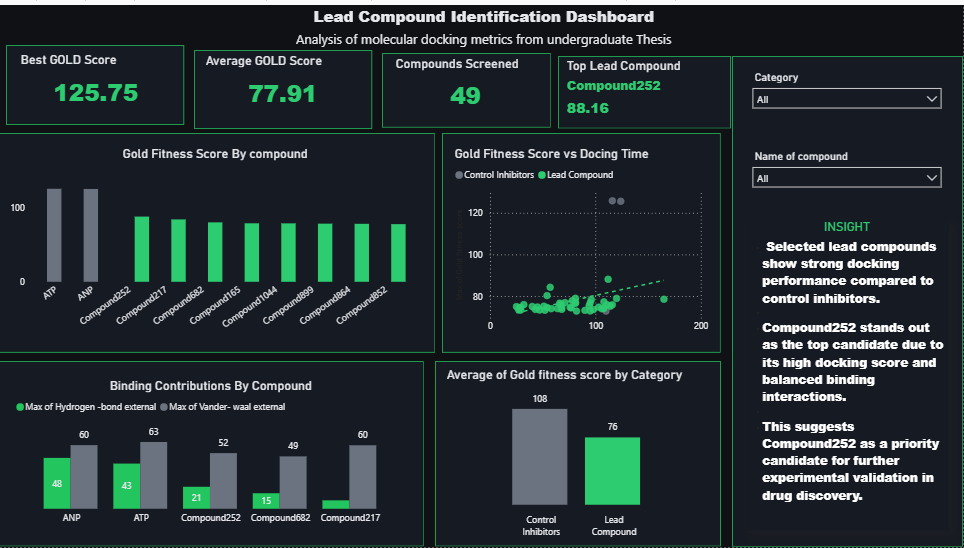

The dashboard page shown, as its layout file describes it:
{"tool":"powerbi","page":{"name":"Page 1","canvas":[1280,720],"ordinal":0},"visuals":[{"type":"textbox","title":"Lead Compound Identification Dashboard","box":[44,0,1200.2,63.3],"z":0},{"type":"shape","box":[589.1,170.7,370.2,291.8],"z":1000},{"type":"shape","box":[0,473.5,564.3,246.4],"z":2000},{"type":"shape","box":[9.6,53.7,236.7,106],"z":3000},{"type":"shape","box":[0,170.7,579.4,291.8],"z":4000},{"type":"shape","box":[973.1,67.4,306.9,652.4],"z":5000},{"type":"shape","box":[258.8,59.2,236.7,104.6],"z":6000},{"type":"shape","box":[509.2,63.3,224.3,99.1],"z":7000},{"type":"shape","box":[743.2,67.4,229.8,96.3],"z":8000},{"type":"card","title":"Best GOLD Score","fields":{"Values":["Max(Sheet1.Gold fitness score)"]},"box":[23.4,61.9,209.2,89.5],"z":9000},{"type":"card","title":"Average GOLD Score","fields":{"Values":["Avg(Sheet1.Gold fitness score)"]},"box":[269.8,63.3,214.7,89.5],"z":10000},{"type":"card","title":"Compounds Screened","fields":{"Values":["Count(Sheet1.Name of compound)"]},"box":[521.6,67.4,195.4,86.7],"z":11000},{"type":"multiRowCard","title":"Top Lead Compound","fields":{"Values":["Sheet1.Name of compound","Max(Sheet1.Gold fitness score)"]},"box":[748.7,70.2,210.6,84],"z":12000},{"type":"clusteredColumnChart","title":"Gold Fitness Score By compound","fields":{"Category":["Sheet1.Name of compound"],"Y":["Max(Sheet1.Gold fitness score)"],"Series":["Sheet1.Category"]},"box":[9.6,187.2,556,257.4],"z":13000},{"type":"clusteredColumnChart","title":"Binding Contributions By Compound","fields":{"Category":["Sheet1.Name of compound"],"Y":["Max(Sheet1.Hydrogen -bond external)","Max(Sheet1.Vander- waal external)"]},"box":[17.9,495.5,528.5,203.7],"z":14000},{"type":"scatterChart","title":"Gold Fitness Score vs Docing Time","fields":{"X":["Max(Sheet1.Time )"],"Y":["Max(Sheet1.Gold fitness score)"],"Category":["Sheet1.Name of compound"],"Series":["Sheet1.Category"]},"box":[600.1,187.2,346.8,257.4],"z":15000},{"type":"shape","box":[579.4,473.5,379.9,246.4],"z":16000},{"type":"clusteredColumnChart","fields":{"Category":["Sheet1.Category"],"Y":["Avg(Sheet1.Gold fitness score)"]},"box":[590.5,480.3,357.8,234],"z":17000},{"type":"slicer","fields":{"Values":["Sheet1.Category"]},"box":[991,82.6,271.1,59.2],"z":18000},{"type":"slicer","fields":{"Values":["Sheet1.Name of compound"]},"box":[991,187.2,271.1,61.9],"z":19000},{"type":"textbox","title":"INSIGHT","box":[991,284.9,271.1,414.3],"z":20000}]}

Visuals, with their boxes in screenshot pixels (x1, y1, x2, y2), scaled from the page's 1280x720 canvas onto the 964x548 screenshot:
"Lead Compound Identification Dashboard" textbox: bbox(33, 0, 937, 48)
shape: bbox(444, 130, 722, 352)
shape: bbox(0, 360, 425, 547)
shape: bbox(7, 41, 185, 122)
shape: bbox(0, 130, 436, 352)
shape: bbox(733, 51, 963, 547)
shape: bbox(195, 45, 373, 125)
shape: bbox(383, 48, 552, 124)
shape: bbox(560, 51, 733, 125)
"Best GOLD Score" card: bbox(18, 47, 175, 115)
"Average GOLD Score" card: bbox(203, 48, 365, 116)
"Compounds Screened" card: bbox(393, 51, 540, 117)
"Top Lead Compound" multiRowCard: bbox(564, 53, 722, 117)
"Gold Fitness Score By compound" clusteredColumnChart: bbox(7, 142, 426, 338)
"Binding Contributions By Compound" clusteredColumnChart: bbox(13, 377, 412, 532)
"Gold Fitness Score vs Docing Time" scatterChart: bbox(452, 142, 713, 338)
shape: bbox(436, 360, 722, 547)
clusteredColumnChart - Sheet1.Category x Avg(Sheet1.Gold fitness score): bbox(445, 366, 714, 544)
slicer - Sheet1.Category: bbox(746, 63, 951, 108)
slicer - Sheet1.Name of compound: bbox(746, 142, 951, 190)
"INSIGHT" textbox: bbox(746, 217, 951, 532)
